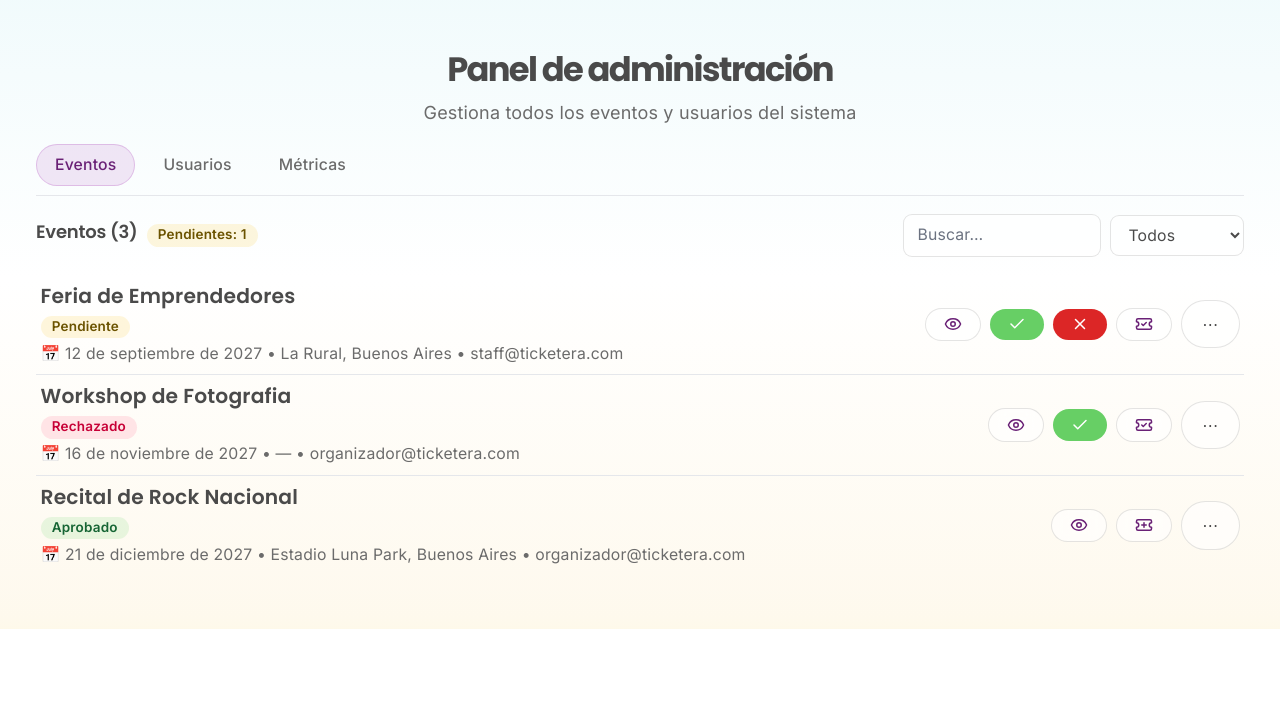
AdminPanel › renders users fetched from admin API
Expected: the heading "Recital de Rock Nacional" is shown, [40,483,298,511]
Users live behind the "Usuarios" tab (single-section layout)
Step 1. Click the tab "Usuarios" → (198, 165), box [144,144,251,186]
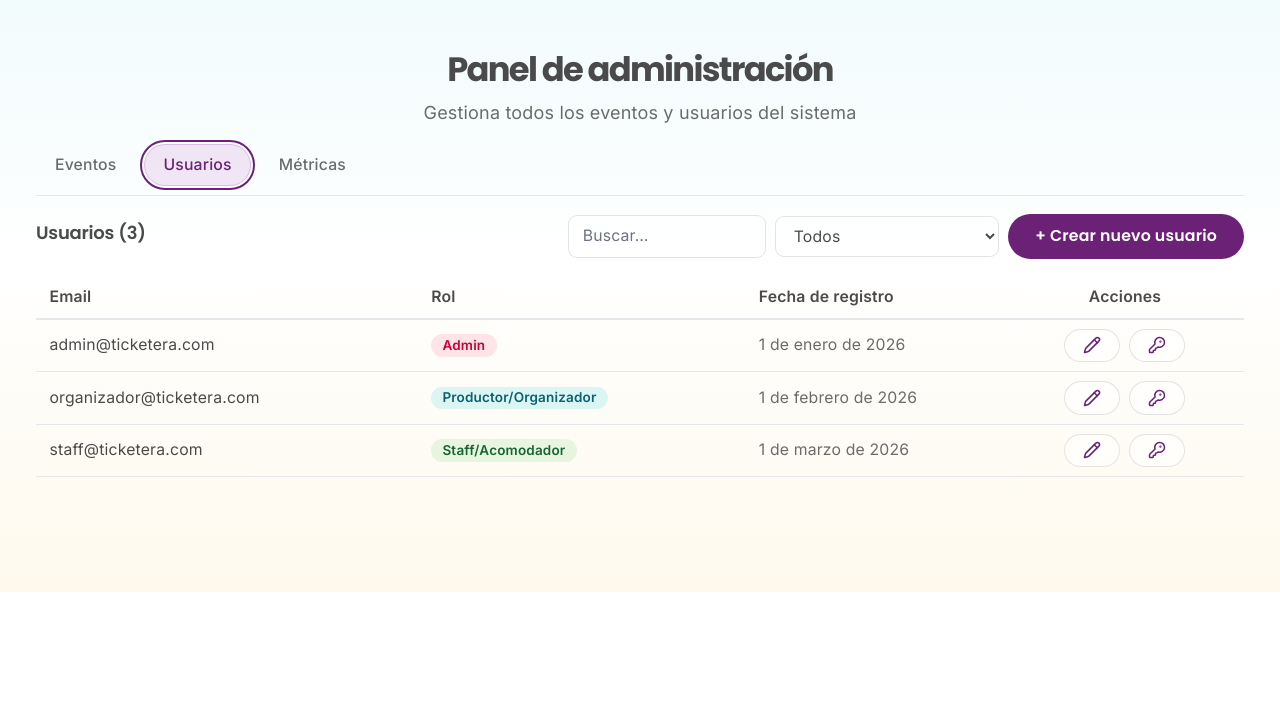
Expected: the text "organizador@ticketera.com" is shown, [36,372,418,424]
Now the text "admin@ticketera.com" is shown, box [36,319,418,372]
